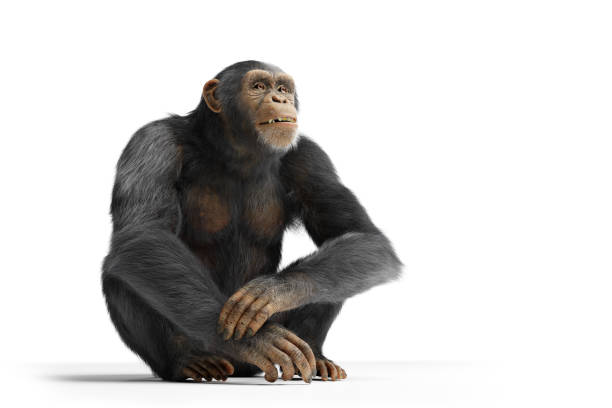chimpanzee: (197, 47, 313, 166)
